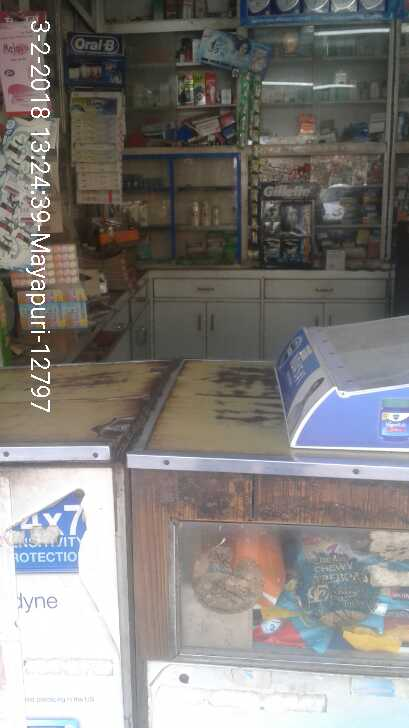oralcare: (62, 31, 123, 207)
